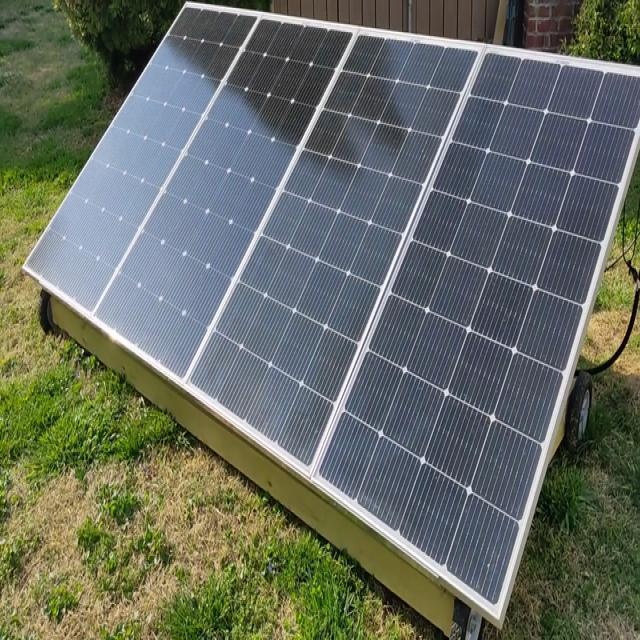Normal Solar Panel: (23, 0, 640, 618)
